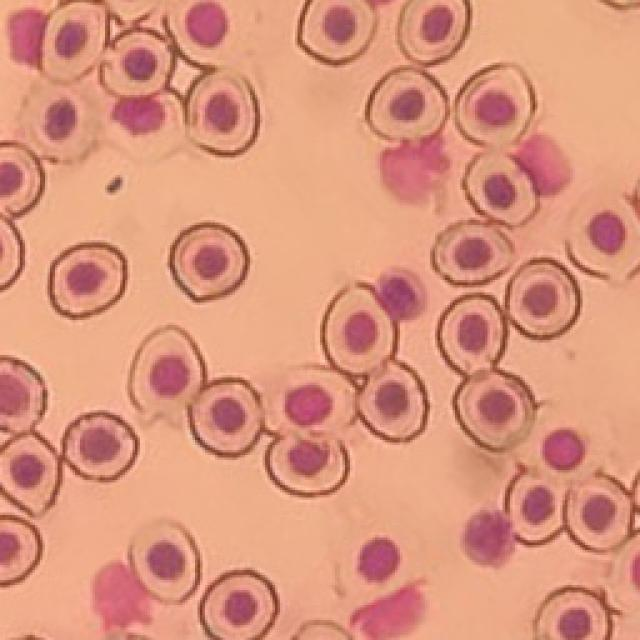RBC: (520, 402, 614, 488), (336, 521, 423, 608), (321, 284, 398, 375), (129, 325, 206, 412), (566, 192, 640, 282), (455, 64, 536, 146), (454, 370, 535, 450), (21, 78, 98, 161), (505, 258, 581, 339), (188, 70, 259, 155), (170, 224, 249, 300), (129, 520, 200, 602), (366, 68, 448, 139), (270, 365, 356, 432), (49, 242, 125, 317), (359, 360, 429, 441), (438, 294, 508, 375), (105, 90, 184, 161), (200, 570, 279, 640), (464, 152, 538, 226), (190, 379, 261, 456), (432, 221, 514, 284), (565, 474, 632, 551), (41, 2, 106, 81), (265, 435, 349, 496), (64, 411, 139, 479), (0, 432, 61, 515), (298, 0, 376, 64), (101, 30, 172, 98), (505, 466, 564, 545), (399, 0, 470, 64), (168, 0, 232, 66), (534, 586, 612, 640), (611, 532, 640, 604), (0, 215, 24, 289)
WBC: (380, 134, 450, 202), (351, 584, 425, 640), (92, 562, 151, 628), (512, 134, 571, 195), (462, 510, 515, 567), (376, 268, 426, 321), (8, 8, 46, 66)
